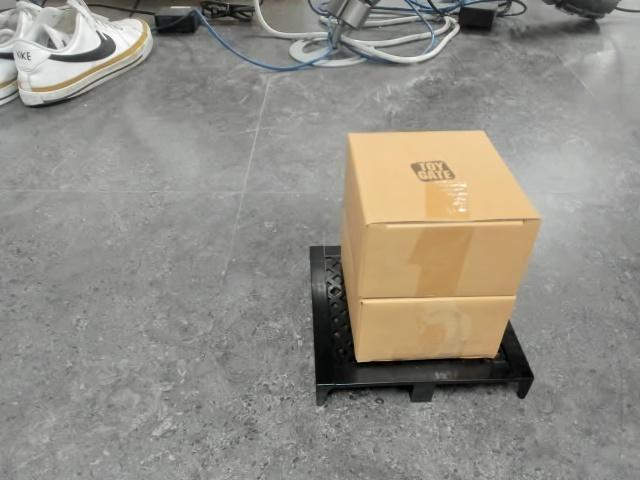box: (309, 129, 545, 409)
